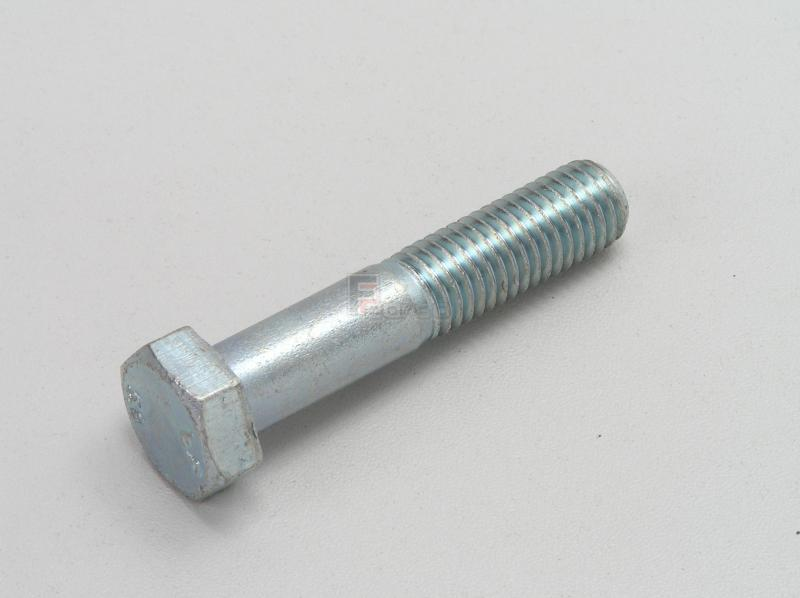screw: (121, 159, 631, 503)
